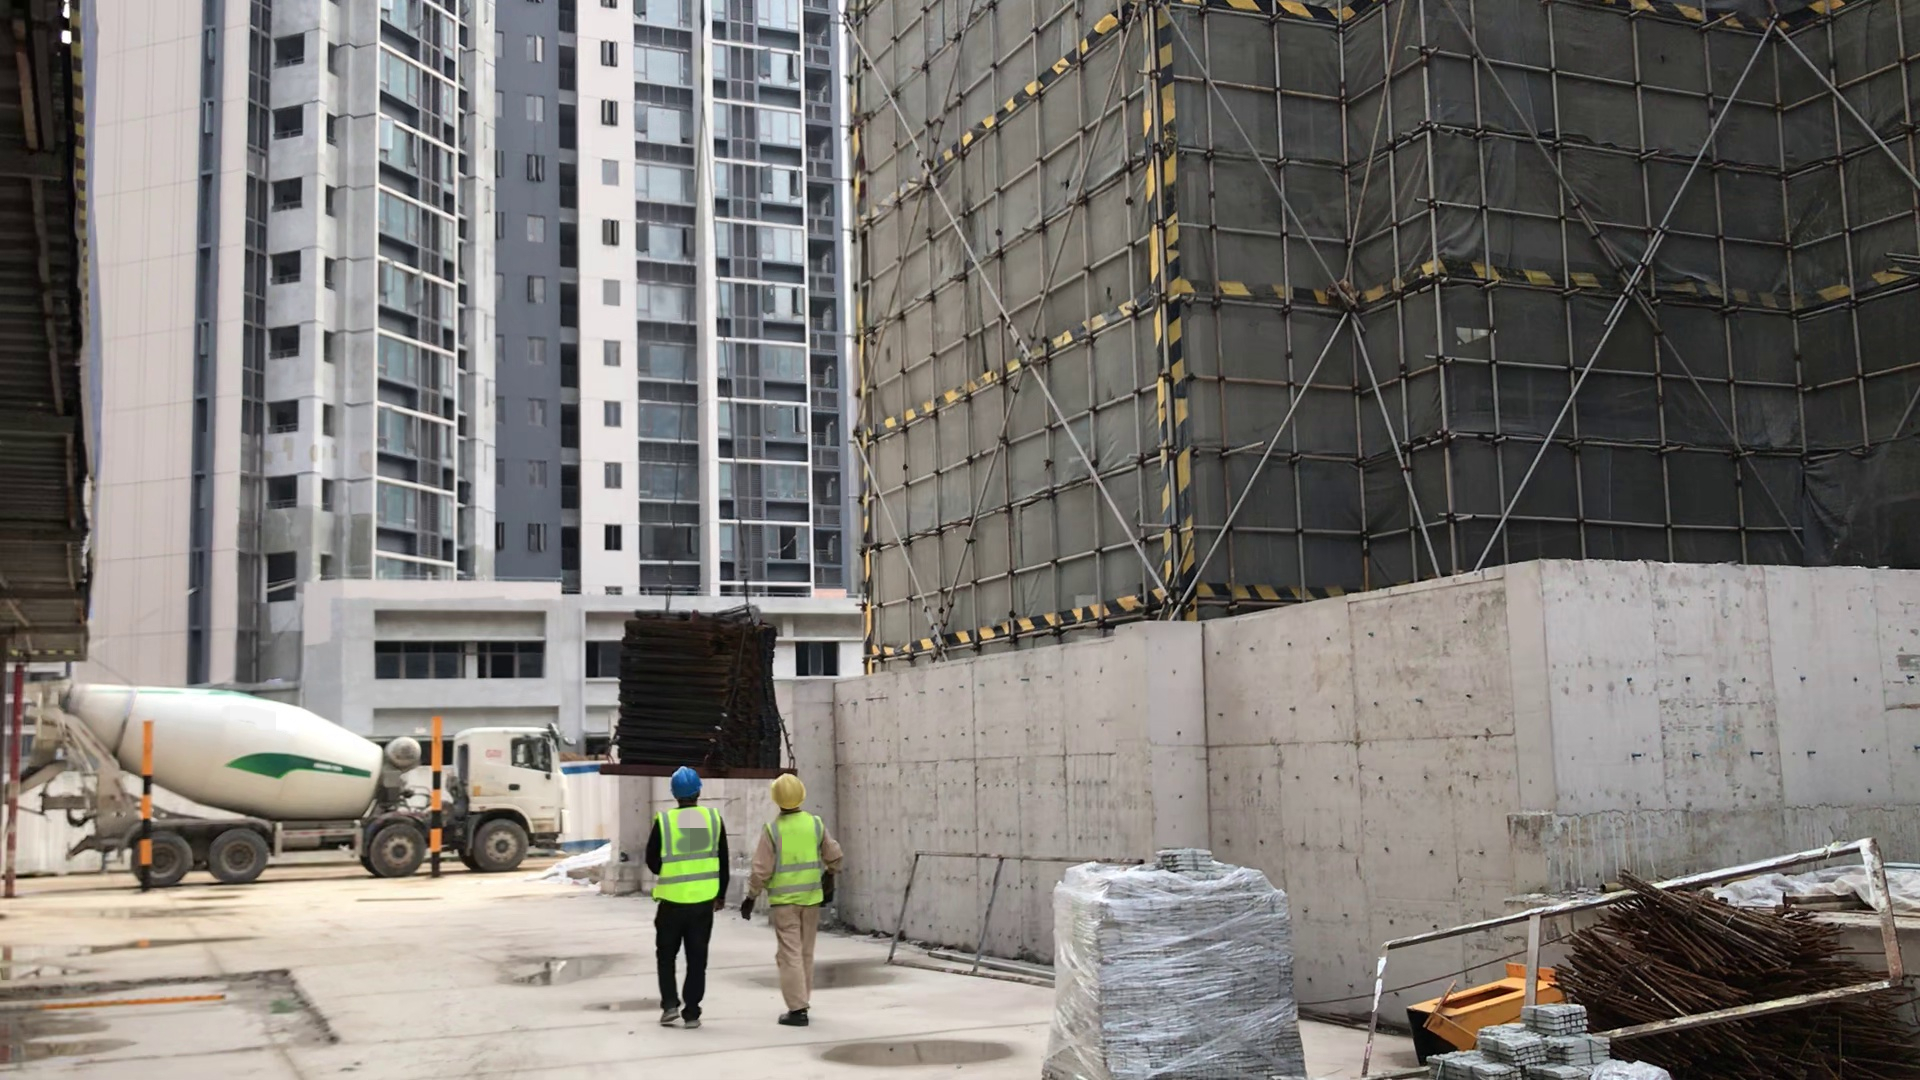helmet: (774, 769, 812, 813), (664, 766, 712, 802)
person: (748, 767, 845, 1027), (646, 753, 728, 1035)
vest: (759, 818, 838, 905), (651, 813, 720, 898)
